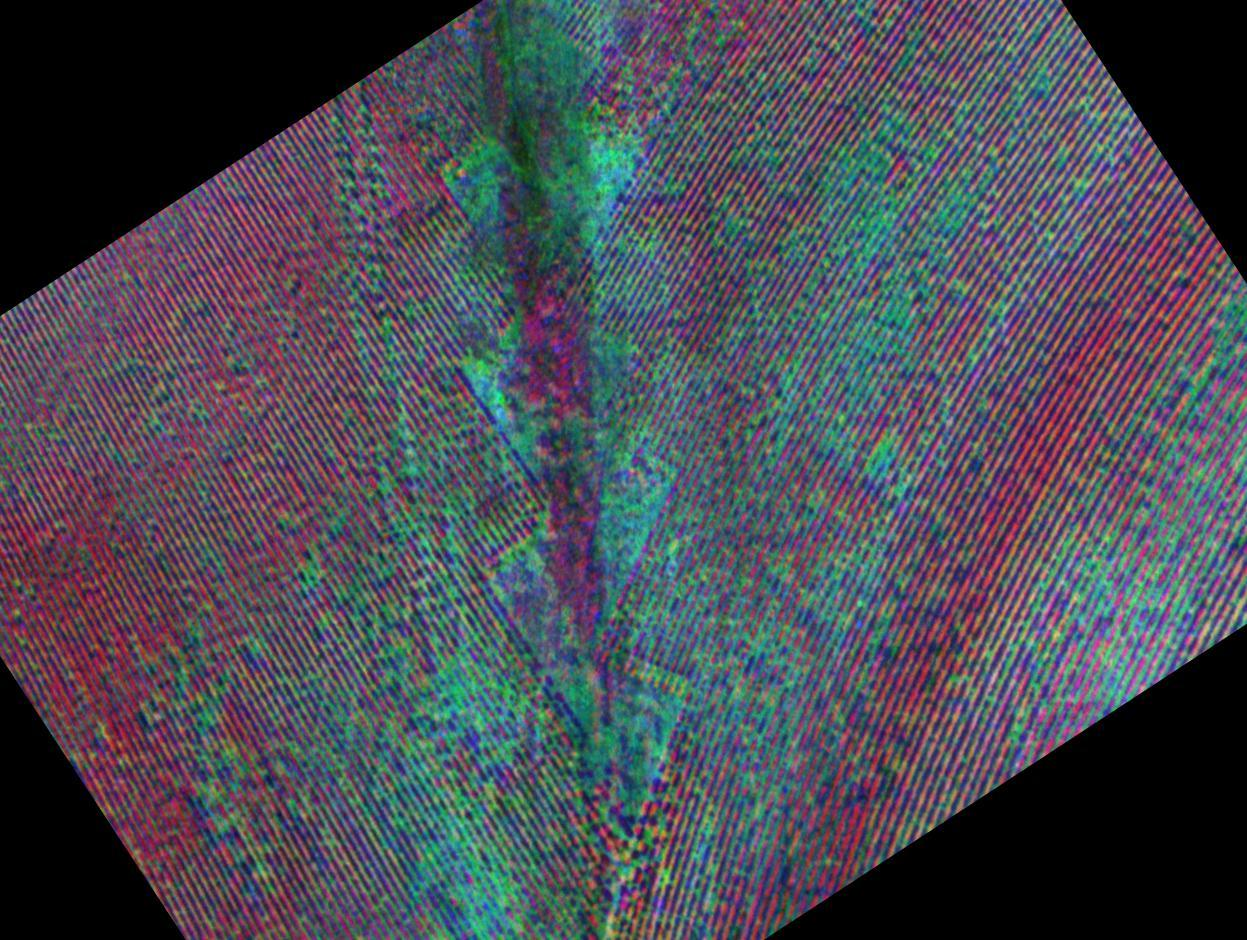dc: (421, 800, 511, 930), (1068, 538, 1153, 660), (573, 118, 626, 207), (856, 250, 905, 344), (458, 348, 497, 404)
